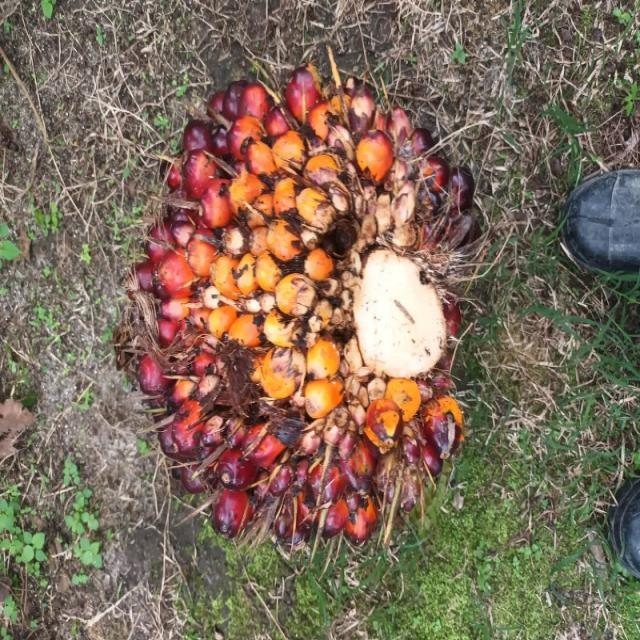fraksi 1: (115, 3, 495, 616)
